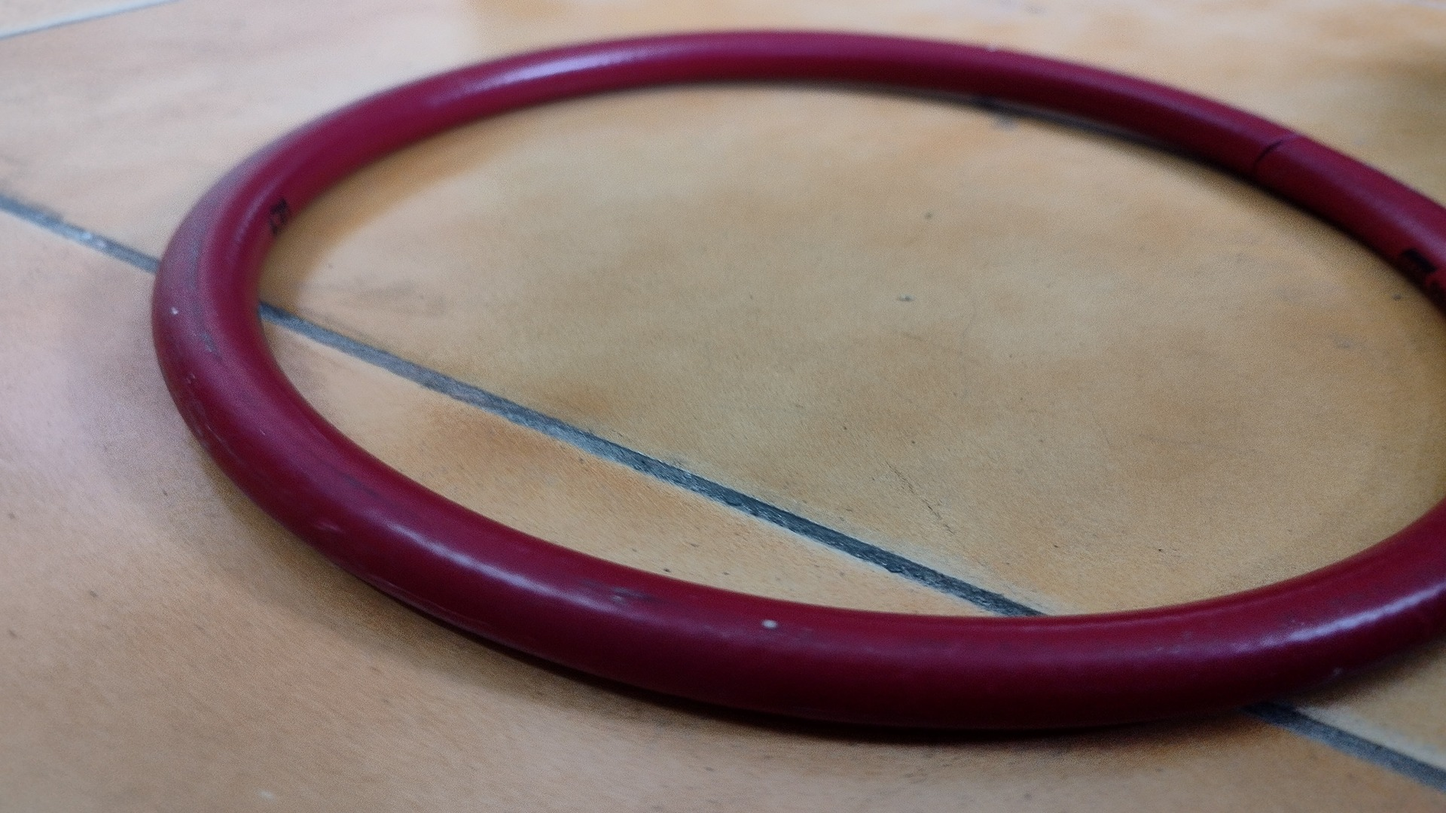Red ring: (157, 29, 1446, 744)
